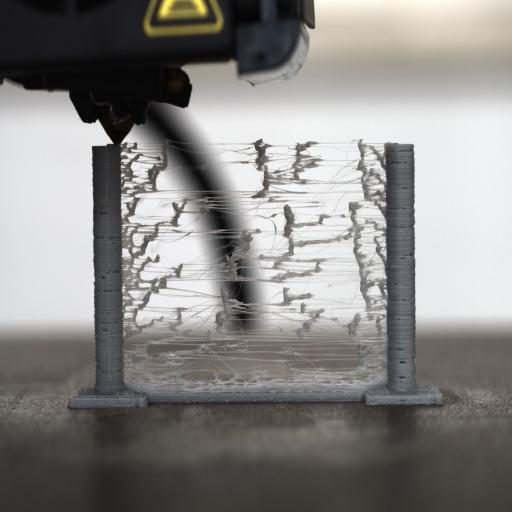stringing: (124, 140, 386, 387)
